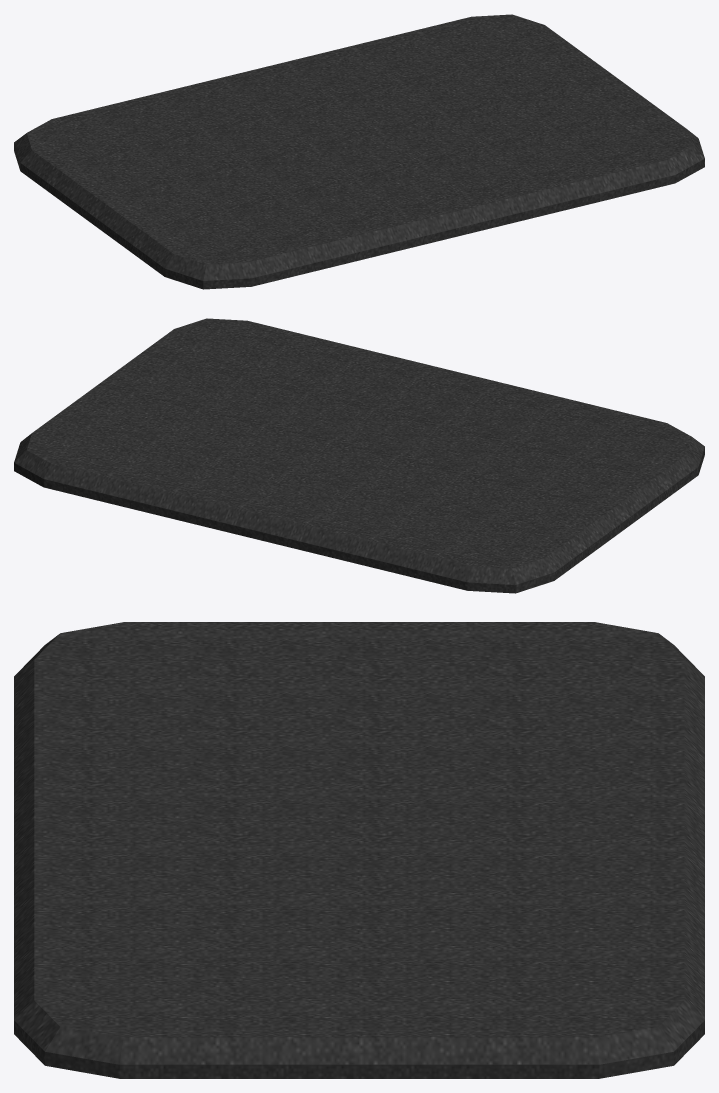
File: Mousepad1.fbx
The picture shows the model from 3 angles, top to bottom: view 1: azimuth 30°, elevation 25°; view 2: azimuth 150°, elevation 25°; view 3: azimuth 270°, elevation 25°; orthographic projection. The views are drawn at different scales.
Visible parts, largest first — view 1: Mousepad1; view 2: Mousepad1; view 3: Mousepad1.
Part boxes in pixels (x1=…): Mousepad1: x1=14, y1=14, x2=704, y2=289; Mousepad1: x1=14, y1=318, x2=704, y2=593; Mousepad1: x1=14, y1=622, x2=704, y2=1078.
Size of the model in its own units: 140 by 4.87 by 94.31.
